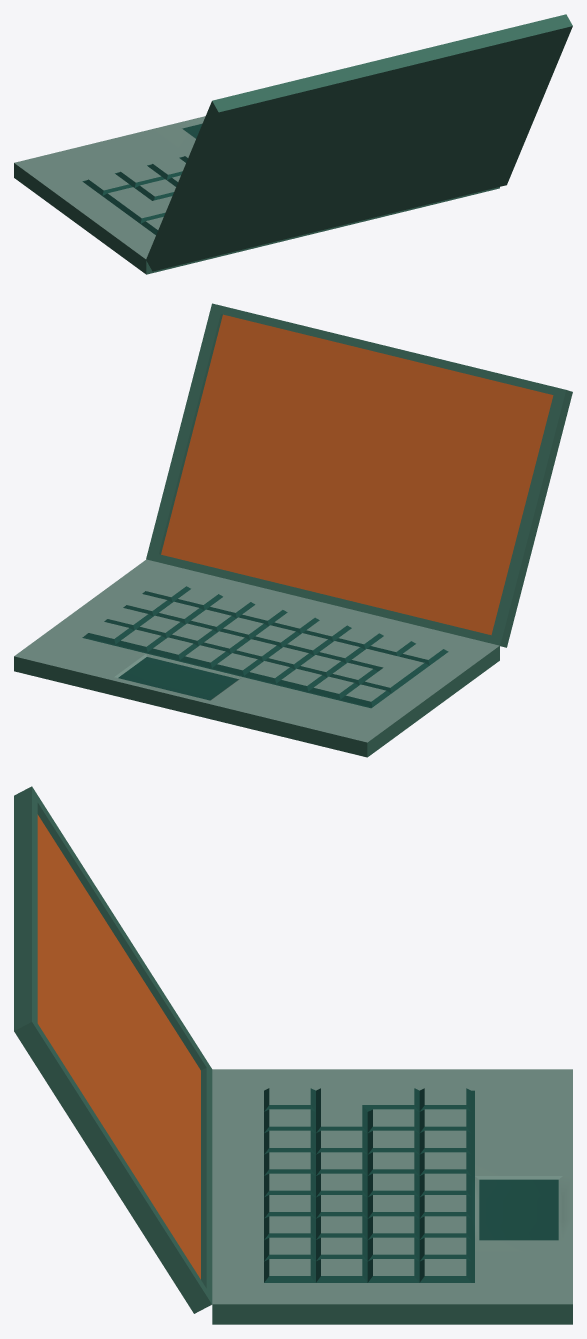
Rendered from laptop.fbx.
3 views of the same model, one above another, from view 1: azimuth 30°, elevation 25°; view 2: azimuth 150°, elevation 25°; view 3: azimuth 270°, elevation 25° (orthographic). The views are drawn at different scales.
Visible parts, largest first — view 1: screen_geo, keyboard_geo; view 2: screen_geo, keyboard_geo; view 3: keyboard_geo, screen_geo.
Boxes of the visible parts, bbox=[...] form: screen_geo: bbox=[146, 14, 572, 271]; keyboard_geo: bbox=[14, 116, 499, 274]; screen_geo: bbox=[146, 303, 572, 647]; keyboard_geo: bbox=[14, 559, 499, 757]; keyboard_geo: bbox=[212, 1069, 572, 1324]; screen_geo: bbox=[14, 786, 212, 1313].
Size of the model in its own units: 56.05 by 33.63 by 56.2.
Materials: 1 (1 with a texture image).
